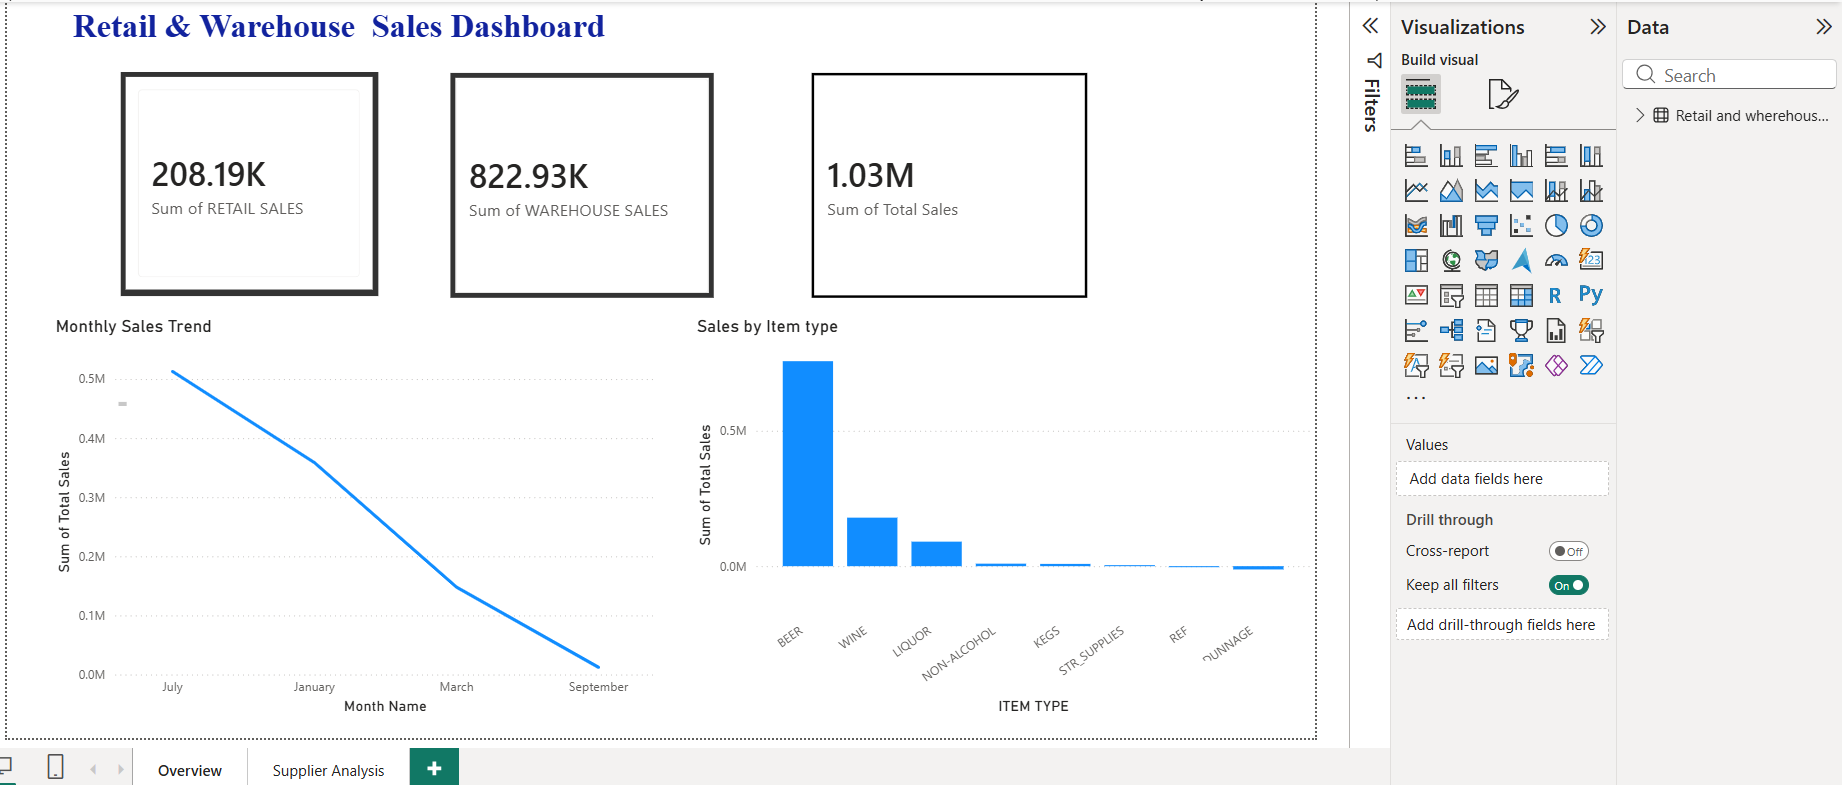

Layout of this report page (visuals, bound fields, positions):
{"tool":"powerbi","page":{"name":"Overview","canvas":[1280,720],"ordinal":0},"visuals":[{"type":"cardVisual","title":"Retail Sales","fields":{"Data":["Sum(Retail and wherehouse Sale.RETAIL SALES)"]},"box":[111.3,68.5,251.9,218.9],"z":0},{"type":"columnChart","title":"Sales by Item type","fields":{"Category":["Retail and wherehouse Sale.ITEM TYPE"],"Y":["Sum(Retail and wherehouse Sale.Total Sales)"]},"box":[670.1,306.9,610.2,395],"z":2},{"type":"lineChart","title":"Monthly Sales Trend","fields":{"Y":["Sum(Retail and wherehouse Sale.Total Sales)"],"Category":["Retail and wherehouse Sale.Month Name"]},"box":[42.8,306.9,596.7,395],"z":3},{"type":"textbox","box":[9.8,682.3,112.5,37.9],"z":4},{"type":"textbox","box":[1099.3,644.4,165.1,75.8],"z":5},{"type":"textbox","box":[1252.2,173.6,12.2,34.2],"z":6},{"type":"textbox","box":[100.3,386.4,22,13.5],"z":7},{"type":"textbox","box":[0,0,649.3,52.6],"z":9},{"type":"cardVisual","fields":{"Data":["Sum(Retail and wherehouse Sale.WAREHOUSE SALES)"]},"box":[417,52.6,291,254.3],"z":10},{"type":"cardVisual","fields":{"Data":["Sum(Retail and wherehouse Sale.Total Sales)"]},"box":[770.4,52.6,303.3,254.3],"z":11}]}

Visuals, with their boxes on the page's 1280x720 design canvas (x1, y1, x2, y2). These are canvas units, not pixel positions in the 1842x785 screenshot, which may show the page scaled, cropped or inside an application window:
"Retail Sales" cardVisual: BBox(111, 68, 363, 287)
"Sales by Item type" columnChart: BBox(670, 307, 1280, 702)
"Monthly Sales Trend" lineChart: BBox(43, 307, 640, 702)
textbox: BBox(10, 682, 122, 720)
textbox: BBox(1099, 644, 1264, 720)
textbox: BBox(1252, 174, 1264, 208)
textbox: BBox(100, 386, 122, 400)
textbox: BBox(0, 0, 649, 53)
cardVisual - Sum(Retail and wherehouse Sale.WAREHOUSE SALES): BBox(417, 53, 708, 307)
cardVisual - Sum(Retail and wherehouse Sale.Total Sales): BBox(770, 53, 1074, 307)
